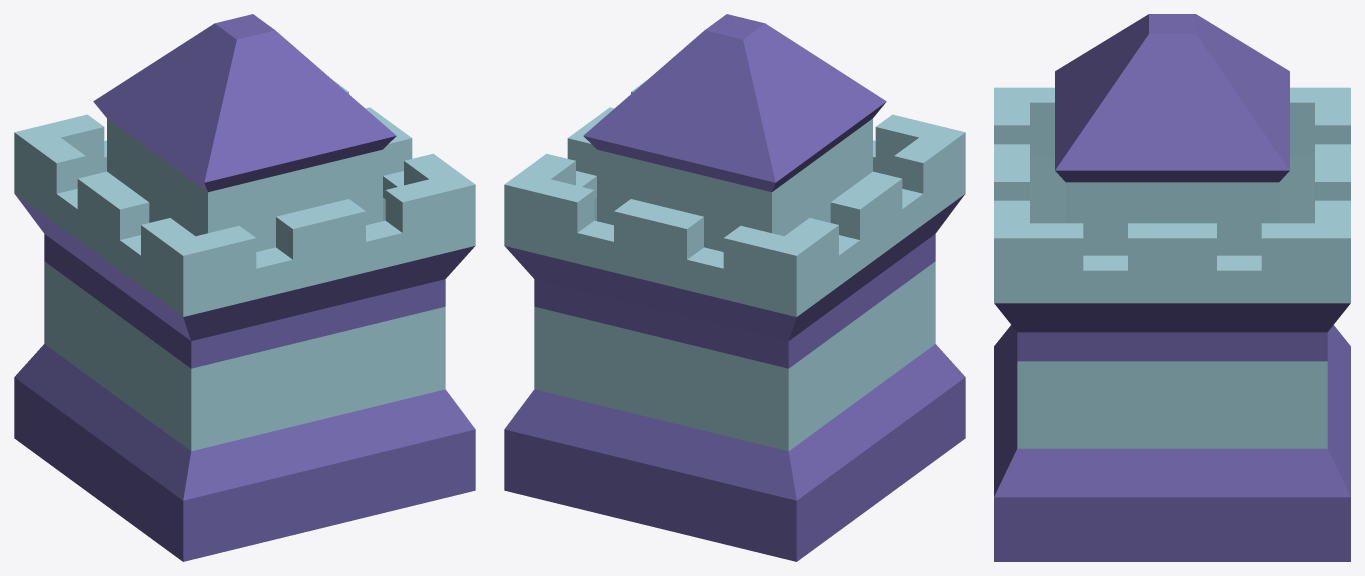
File: towersquare_samplea.fbx
The picture shows the model from 3 angles, left to right: view 1: azimuth 30°, elevation 25°; view 2: azimuth 150°, elevation 25°; view 3: azimuth 270°, elevation 25°; orthographic projection. The views are drawn at different scales.
Visible parts, largest first — view 1: towerSquare_sampleA; view 2: towerSquare_sampleA; view 3: towerSquare_sampleA.
Boxes of the visible parts, x1,y1,x2,y2 form: towerSquare_sampleA: (14,14,475,561); towerSquare_sampleA: (504,14,965,561); towerSquare_sampleA: (994,14,1350,561).
Size of the model in its own units: 10 by 14.3 by 10.
